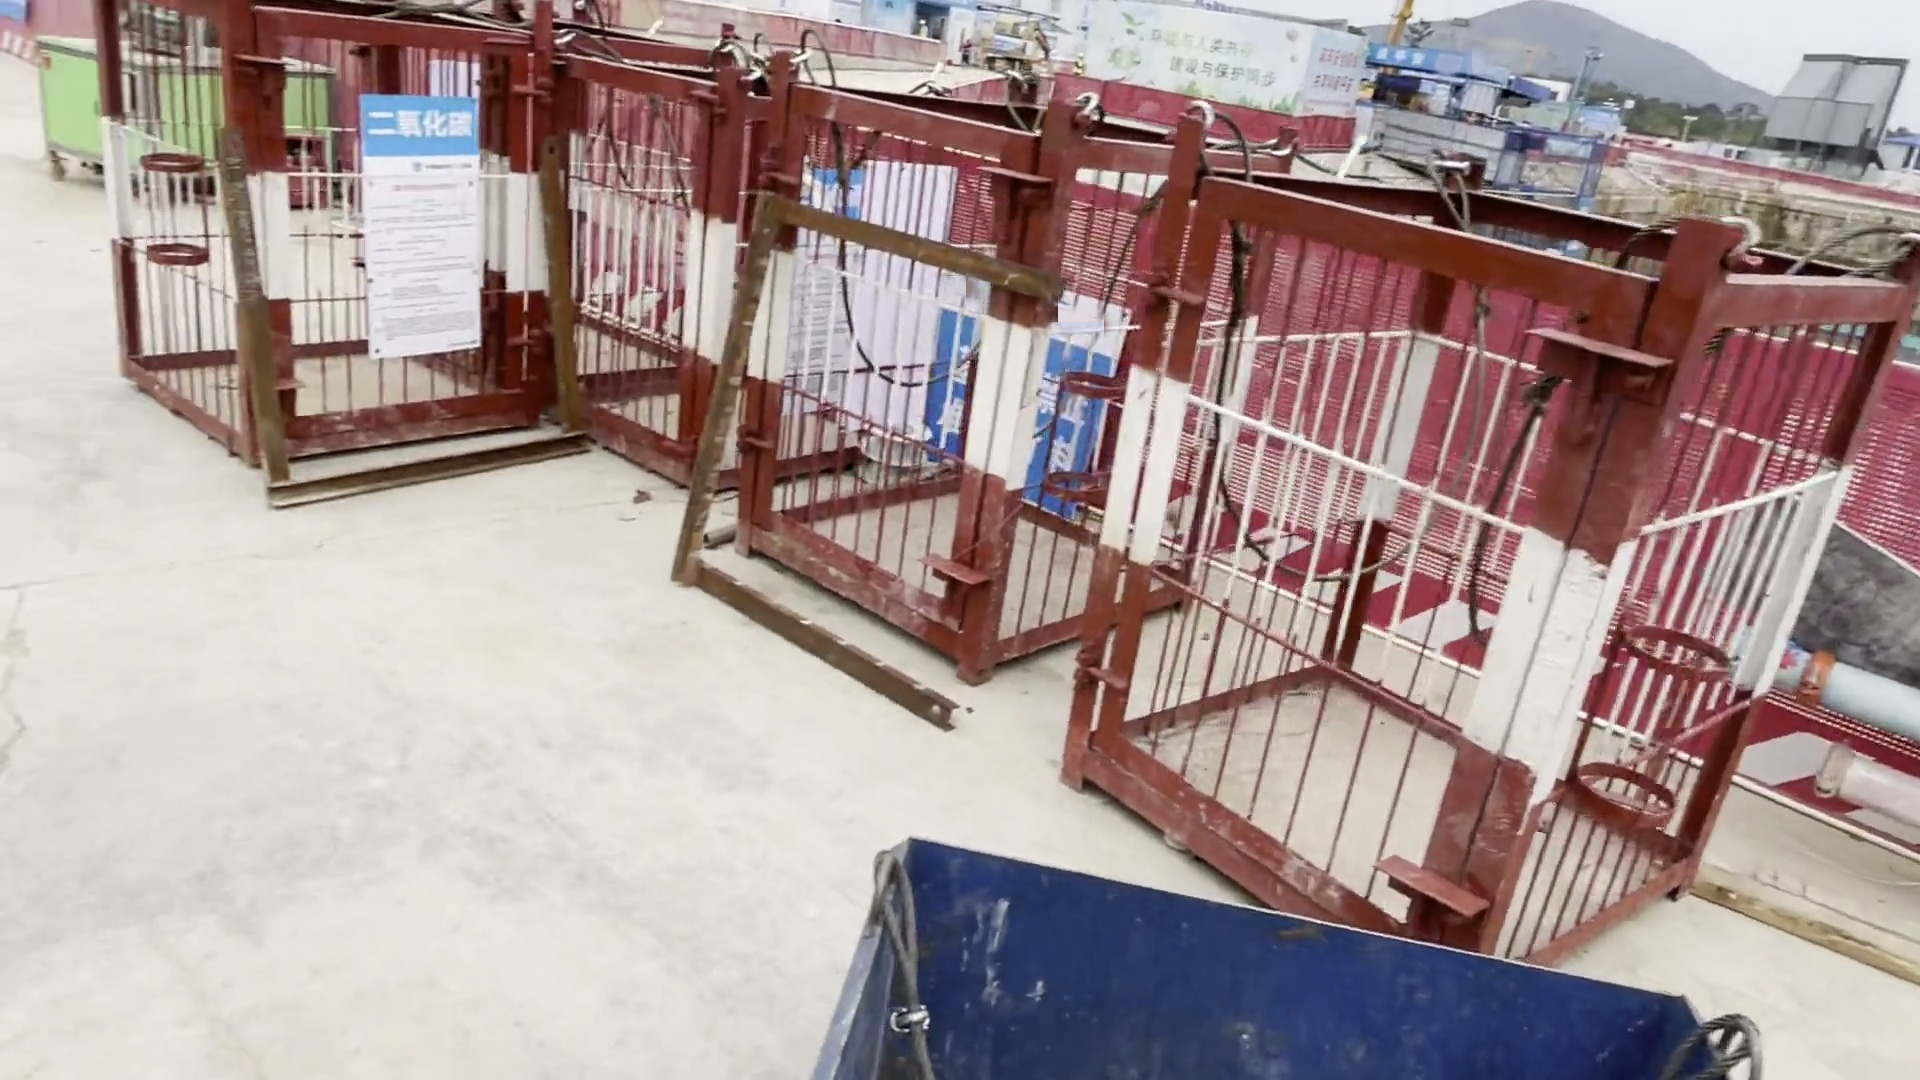hopper: (793, 808, 1739, 1080)
